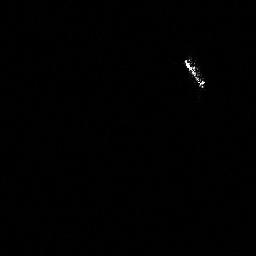ship: (182, 57, 208, 90)
